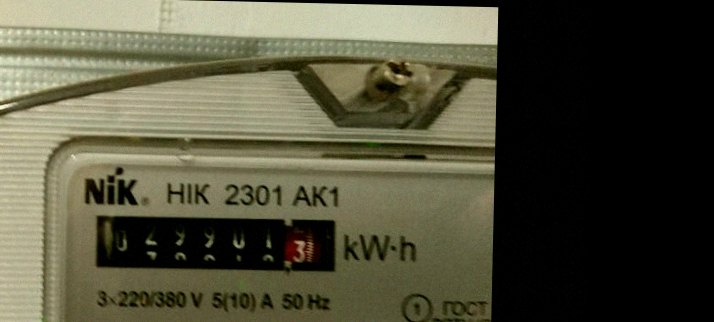0: (111, 224, 130, 252), (230, 221, 247, 250)
1: (261, 221, 275, 249)
2: (141, 219, 160, 246)
3: (290, 236, 307, 263)
9: (171, 220, 188, 247), (202, 221, 216, 249)
screen: (86, 204, 347, 282)
